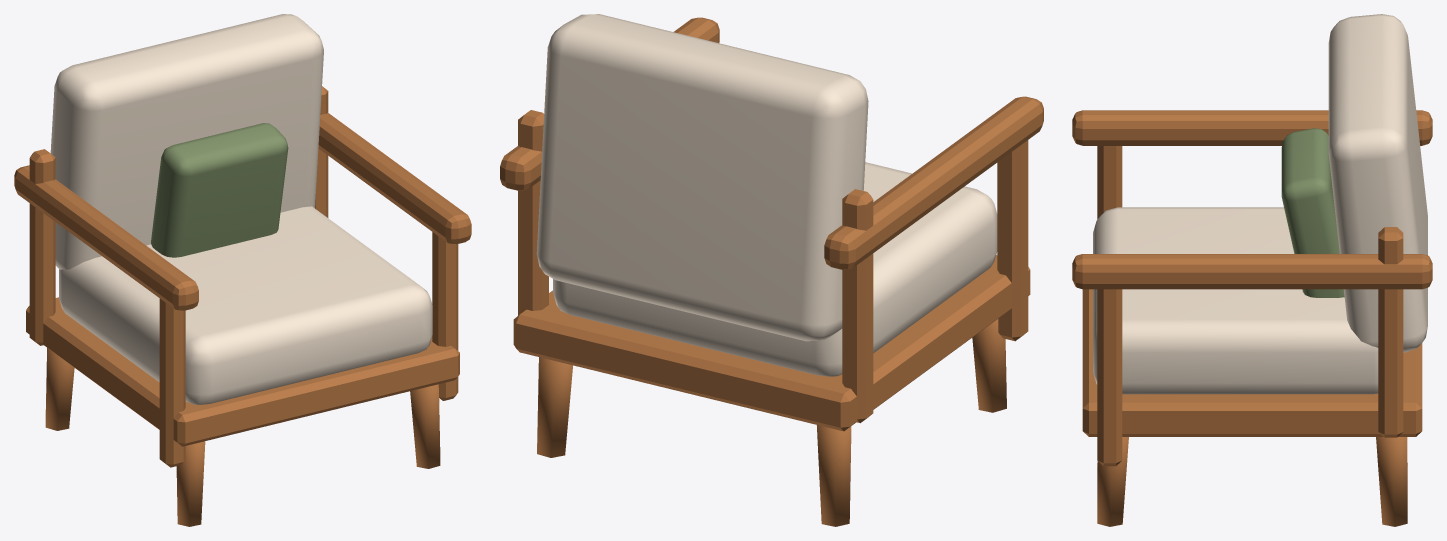
Rendered from armchair.glb.
3 renders of one model, left to right at view 1: azimuth 30°, elevation 25°; view 2: azimuth 150°, elevation 25°; view 3: azimuth 270°, elevation 25°, orthographic. The views are drawn at different scales.
Parts seen in each view (by area): view 1: armchair_seat, armchair_back, armchair_seat_frame, armchair_throw_pillow, armchair_arm_-1, armchair_arm_1, armchair_back_post_-1, armchair_front_post_-1, armchair_front_post_1, armchair_leg_0.345_-0.33, armchair_leg_-0.345_-0.33, armchair_leg_-0.345_0.33 (+1 smaller); view 2: armchair_back, armchair_seat_frame, armchair_seat, armchair_arm_-1, armchair_back_post_-1, armchair_front_post_-1, armchair_back_post_1, armchair_leg_-0.345_0.33, armchair_leg_0.345_0.33, armchair_leg_-0.345_-0.33, armchair_arm_1; view 3: armchair_seat, armchair_back, armchair_seat_frame, armchair_arm_1, armchair_arm_-1, armchair_throw_pillow, armchair_back_post_1, armchair_front_post_1, armchair_leg_0.345_0.33, armchair_leg_0.345_-0.33, armchair_front_post_-1.
Boxes of the visible parts, left/top/right/bottom form: armchair_seat: left=59, top=206, right=432, bottom=404; armchair_back: left=50, top=14, right=323, bottom=269; armchair_seat_frame: left=26, top=297, right=459, bottom=446; armchair_throw_pillow: left=151, top=123, right=288, bottom=257; armchair_arm_-1: left=14, top=165, right=198, bottom=310; armchair_arm_1: left=318, top=113, right=471, bottom=244; armchair_back_post_-1: left=29, top=149, right=55, bottom=345; armchair_front_post_-1: left=159, top=298, right=185, bottom=467; armchair_front_post_1: left=432, top=232, right=458, bottom=400; armchair_leg_0.345_-0.33: left=410, top=384, right=440, bottom=468; armchair_leg_-0.345_-0.33: left=176, top=441, right=205, bottom=526; armchair_leg_-0.345_0.33: left=45, top=348, right=74, bottom=430; armchair_back: left=536, top=14, right=868, bottom=341; armchair_seat_frame: left=513, top=255, right=1030, bottom=431; armchair_seat: left=553, top=162, right=997, bottom=376; armchair_arm_-1: left=824, top=96, right=1043, bottom=269; armchair_back_post_-1: left=842, top=189, right=873, bottom=423; armchair_front_post_-1: left=997, top=140, right=1028, bottom=341; armchair_back_post_1: left=518, top=110, right=548, bottom=315; armchair_leg_-0.345_0.33: left=816, top=425, right=851, bottom=526; armchair_leg_0.345_0.33: left=537, top=357, right=572, bottom=457; armchair_leg_-0.345_-0.33: left=972, top=319, right=1006, bottom=412; armchair_arm_1: left=500, top=17, right=719, bottom=190; armchair_seat: left=1093, top=207, right=1378, bottom=394; armchair_back: left=1328, top=14, right=1427, bottom=352; armchair_seat_frame: left=1082, top=289, right=1422, bottom=436; armchair_arm_1: left=1072, top=254, right=1432, bottom=289; armchair_arm_-1: left=1072, top=110, right=1432, bottom=145; armchair_throw_pillow: left=1281, top=128, right=1344, bottom=297; armchair_back_post_1: left=1378, top=227, right=1403, bottom=437; armchair_front_post_1: left=1097, top=289, right=1122, bottom=466; armchair_leg_0.345_0.33: left=1376, top=437, right=1407, bottom=526; armchair_leg_0.345_-0.33: left=1097, top=437, right=1128, bottom=526; armchair_front_post_-1: left=1097, top=146, right=1122, bottom=219.
Bounding box in the file's own units: 0.885 × 1.02 × 0.86.
